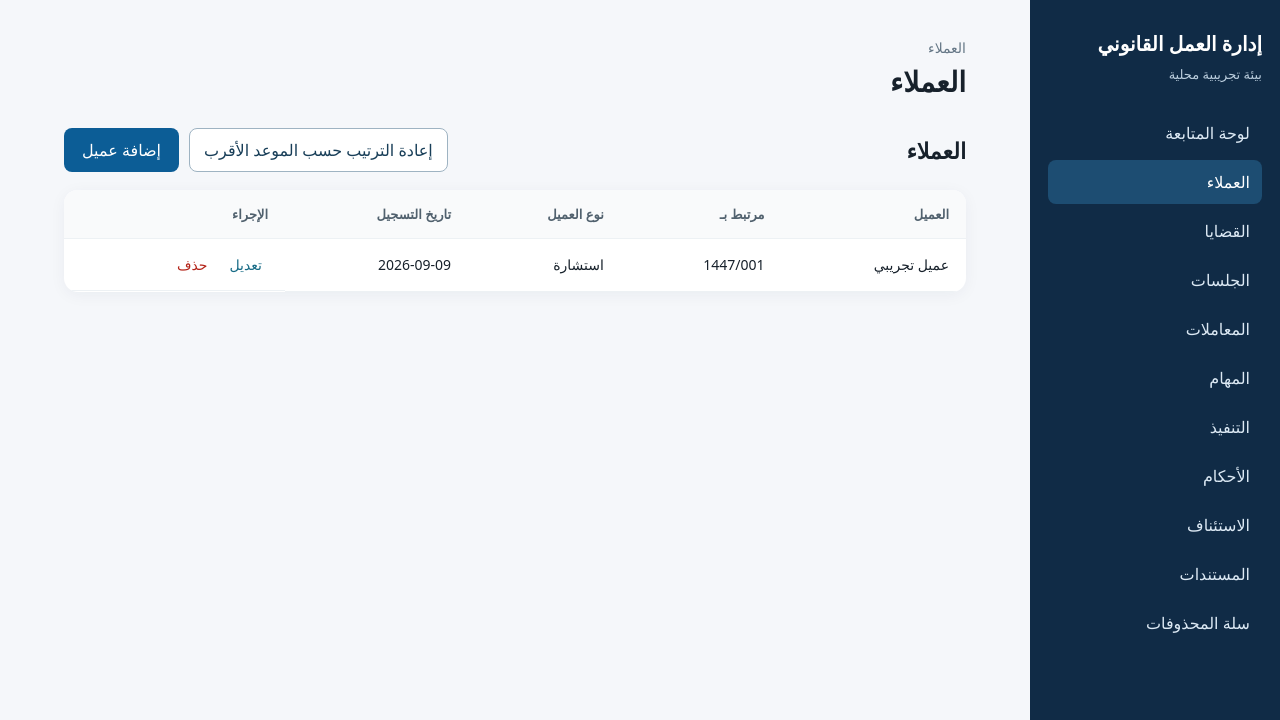
Test: واجهة التطبيق › تعرض سلة المحذوفات وحالتها الفارغة
Click the button "سلة المحذوفات".
click(1155, 623)  # box [1048,601,1262,645]
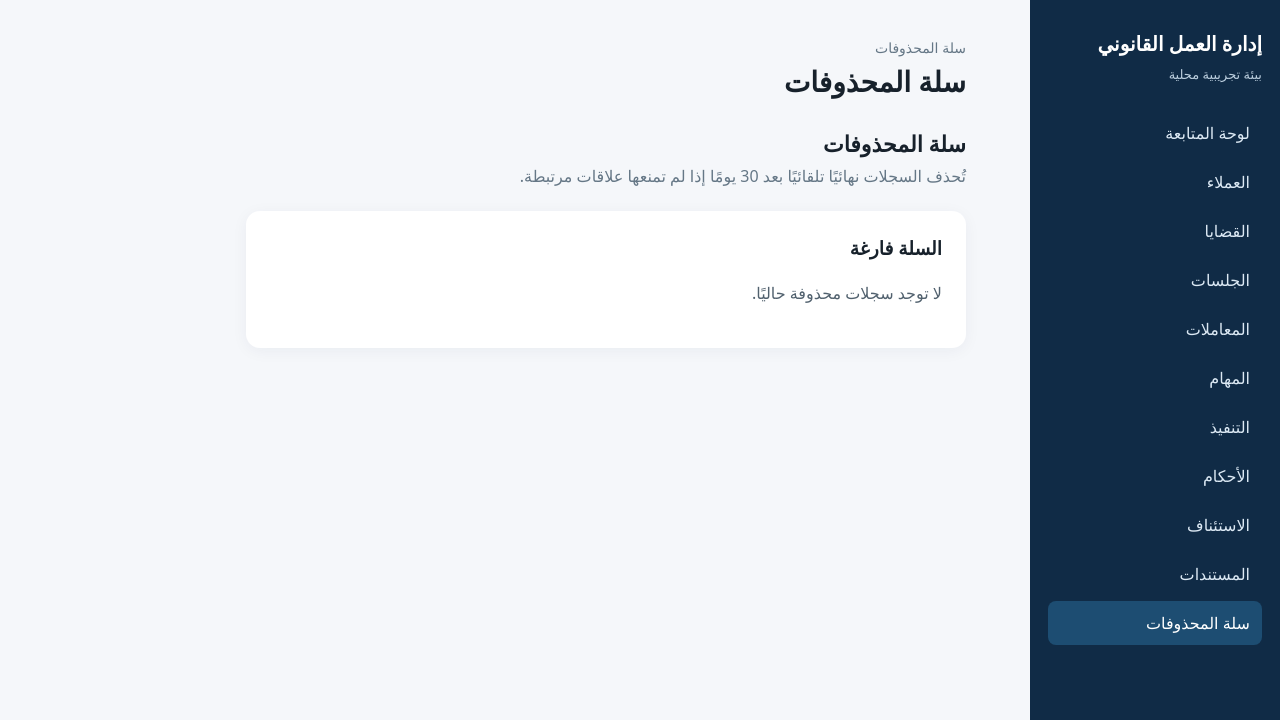
Now the text "تُحذف السجلات نهائيًا تلقائيًا بعد 30 يومًا" is shown, box [520,165,966,187]
Now the text "السلة فارغة" is shown, box [850,235,942,260]
